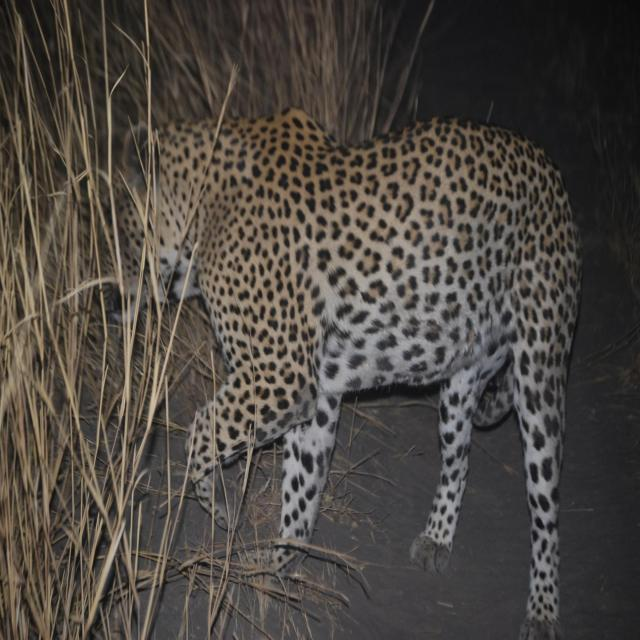Leopard: (118, 80, 596, 593)
